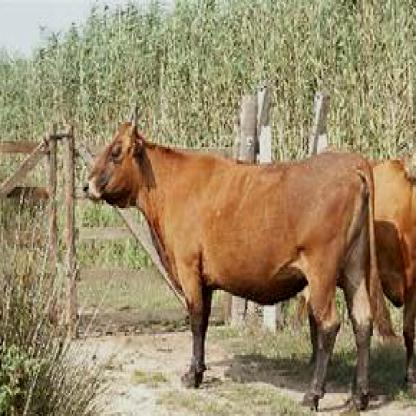cow: (79, 101, 392, 414), (371, 141, 415, 398)
